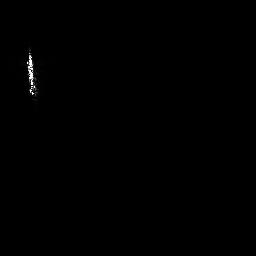ship: (24, 48, 36, 97)
